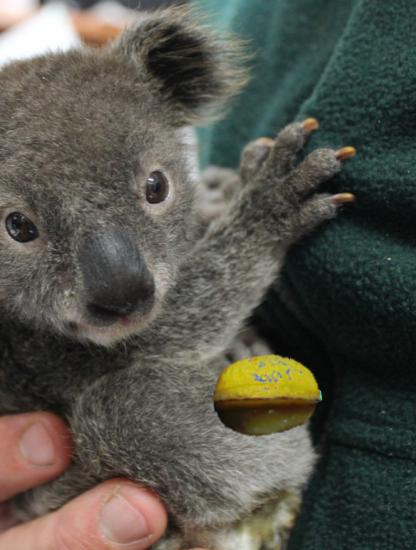Carambula: (213, 341, 322, 450)
